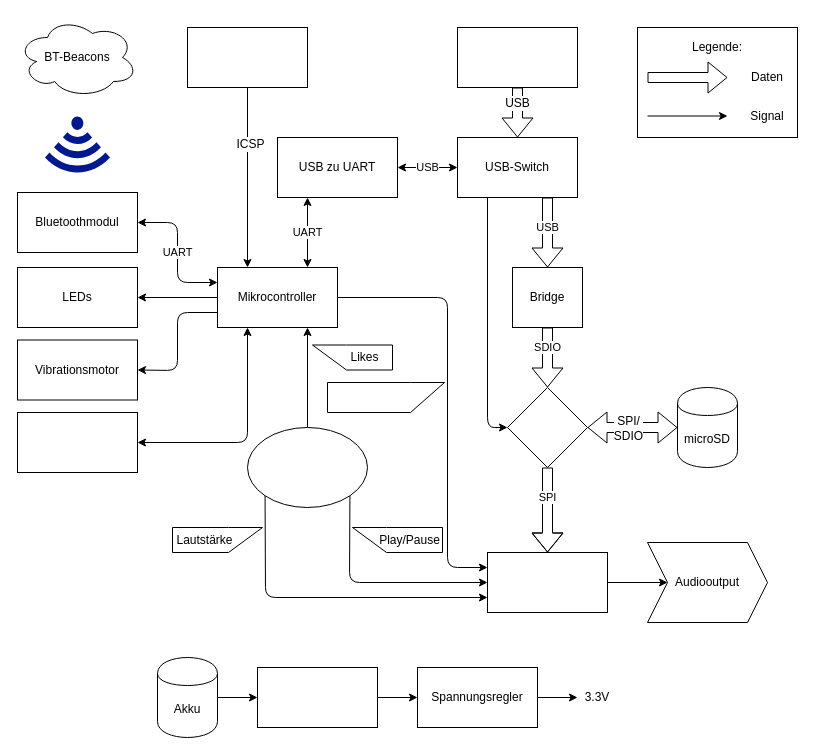
This 815x755 diagram has some shape labels left out. Here are the shapes that lost their labels. From the top down, the centre of each, then its label:
At point (247, 57): "ICSP-Header".
At point (517, 57): "PC".
At point (385, 397): "Track Control".
At point (77, 442): "int. EEPROM".
At point (547, 427): "Switch".
At point (307, 467): "Tasten".
At point (547, 582): "Audioboard".
At point (317, 697): "Laderegler".
